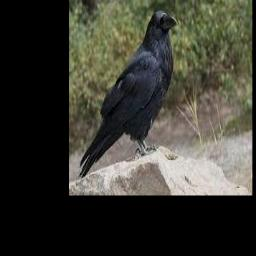Crow: (80, 9, 179, 178)
